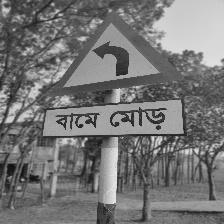Left-Turn: (39, 10, 192, 137)
